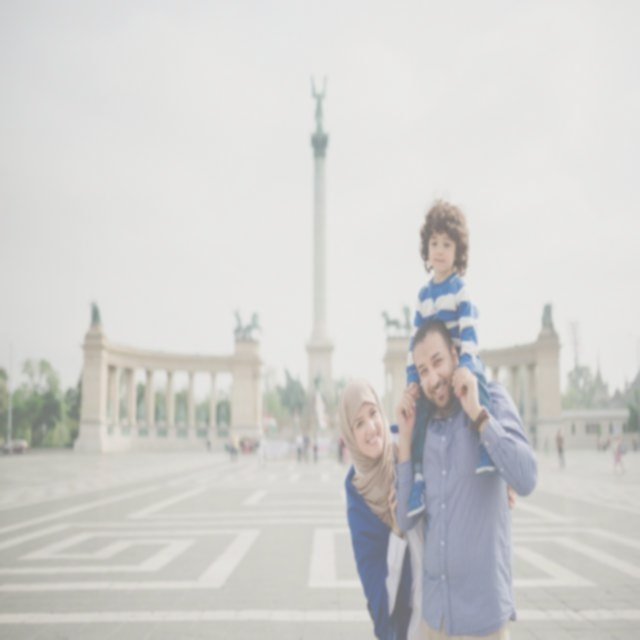pessoa: (336, 374, 522, 639), (393, 314, 540, 638), (403, 196, 499, 522), (201, 418, 349, 481), (553, 417, 639, 477)
